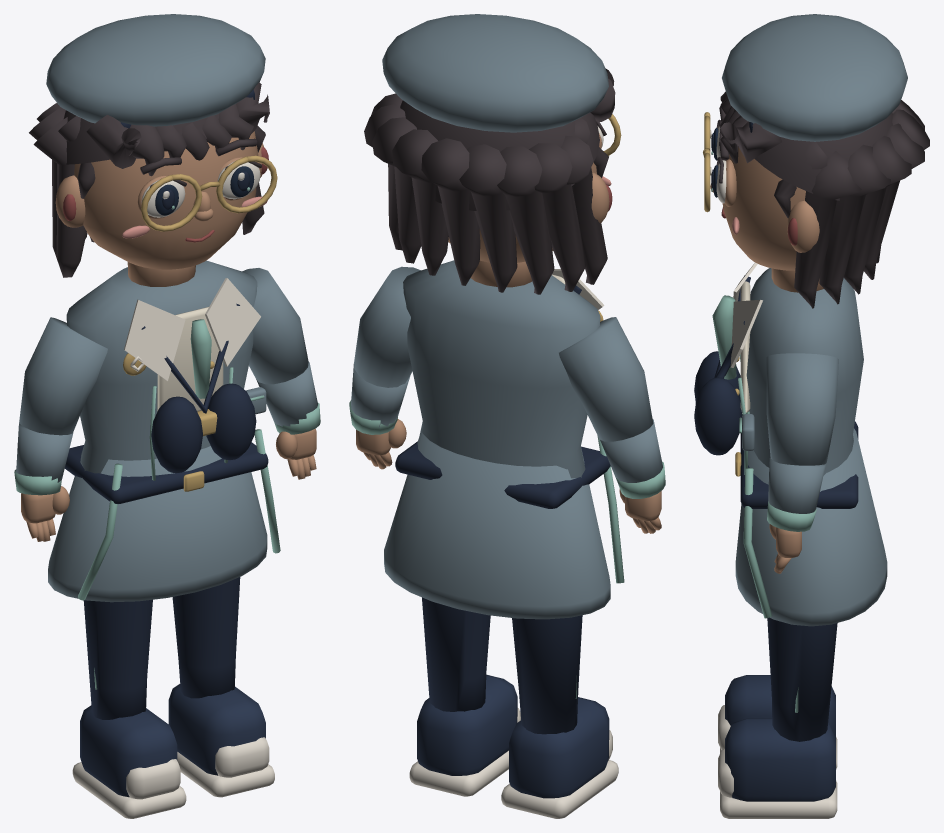
Rendered from npc_mistlake_trainer_1.glb.
3 views of the same model, side by side, from view 1: azimuth 30°, elevation 25°; view 2: azimuth 150°, elevation 25°; view 3: azimuth 270°, elevation 25° (orthographic). The views are drawn at different scales.
Visible parts, largest first — view 1: figure.026; view 2: figure.026; view 3: figure.026.
Boxes of the visible parts, bbox=[...] form: figure.026: bbox=[14, 14, 320, 818]; figure.026: bbox=[349, 14, 665, 818]; figure.026: bbox=[694, 14, 929, 818].
Bounding box in the file's own units: 0.6683 × 1.58 × 0.4512.
